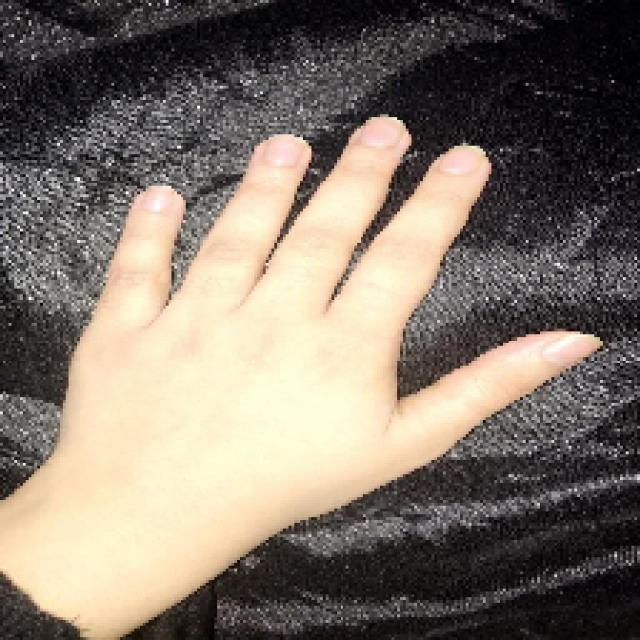Nail: (542, 334, 601, 370), (264, 135, 308, 166), (361, 118, 406, 147), (440, 146, 482, 173), (141, 185, 176, 212)
